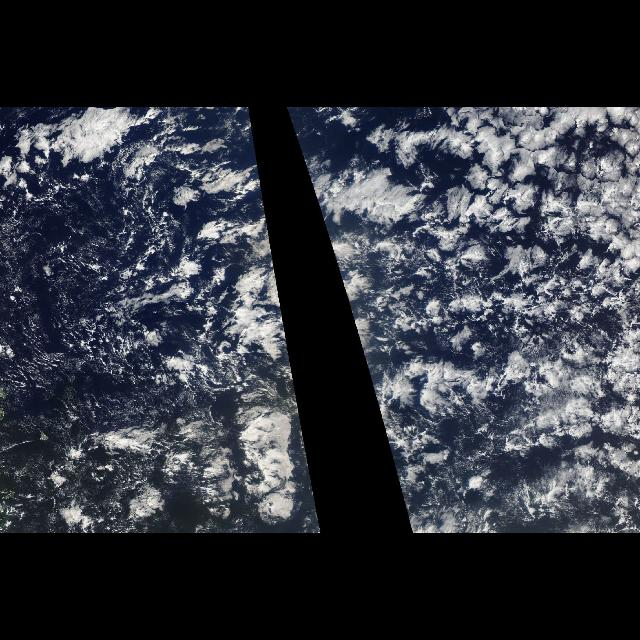Flower: (285, 108, 639, 524), (62, 108, 320, 530)
Sugar: (0, 184, 168, 396)
